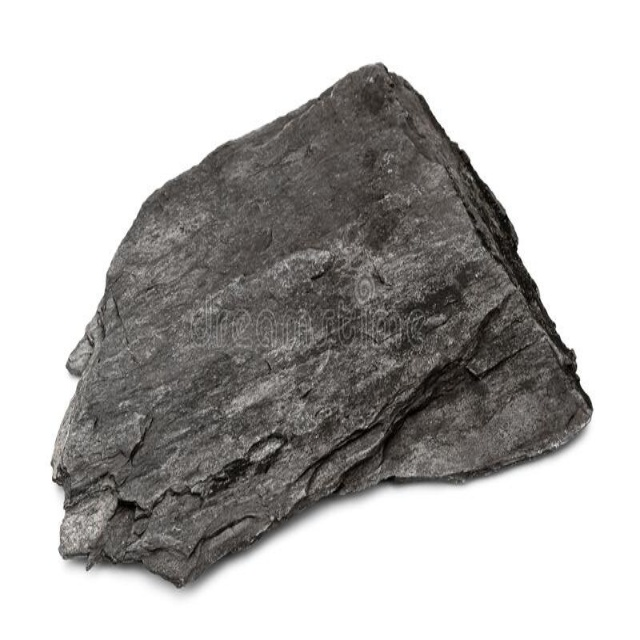obstacle: (52, 64, 591, 584)
